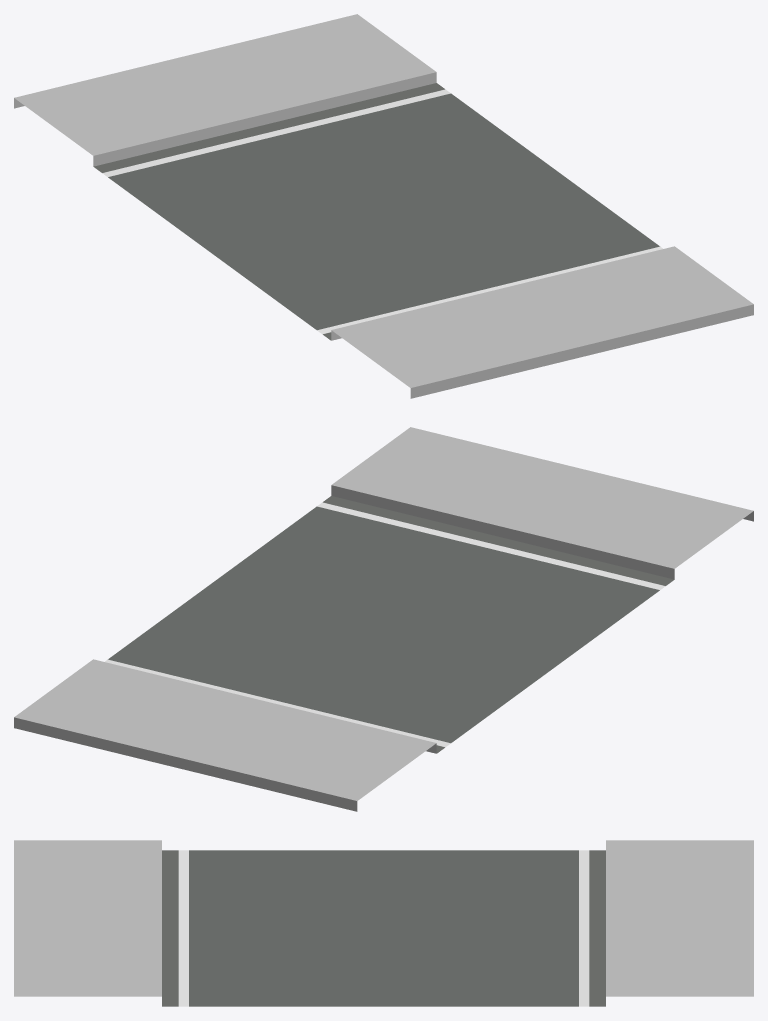
The model's file is Straight_XS.fbx.
3 views of the same model, one above another, from view 1: azimuth 30°, elevation 25°; view 2: azimuth 150°, elevation 25°; view 3: azimuth 270°, elevation 25° (orthographic). The views are drawn at different scales.
Visible parts, largest first — view 1: Plane.001; view 2: Plane.001; view 3: Plane.001.
Boxes of the visible parts, box(x1,y1,x2,y2) form: Plane.001: box(14, 14, 753, 398); Plane.001: box(14, 427, 753, 811); Plane.001: box(14, 840, 753, 1006).
Size of the model in its own units: 5 by 0.15 by 10.
